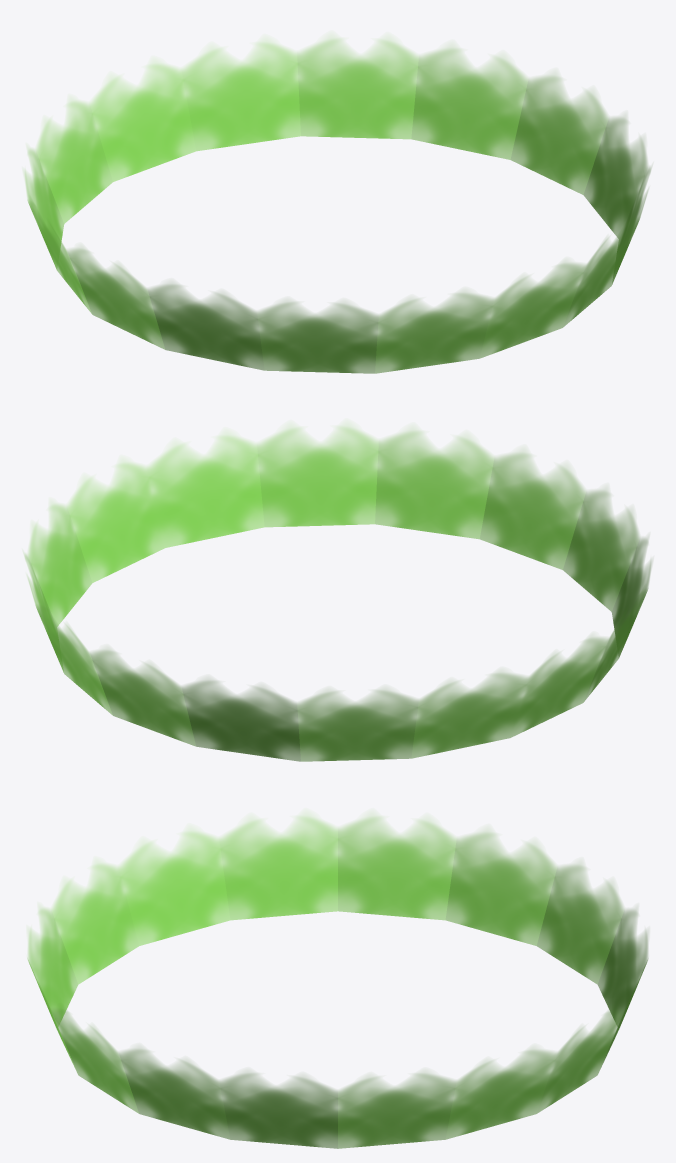
File: recovery_fx.glb
3 views of the same model, one above another, from view 1: azimuth 30°, elevation 25°; view 2: azimuth 150°, elevation 25°; view 3: azimuth 270°, elevation 25° (orthographic).
Visible parts, largest first — view 1: HealFX; view 2: HealFX; view 3: HealFX.
Part boxes in pixels (bbox=[...]): HealFX: bbox=[24, 38, 651, 373]; HealFX: bbox=[24, 426, 651, 761]; HealFX: bbox=[27, 815, 648, 1148].
Size of the model in its own units: 1.74 by 0.3054 by 1.74.
Materials: 1 (1 with a texture image).
